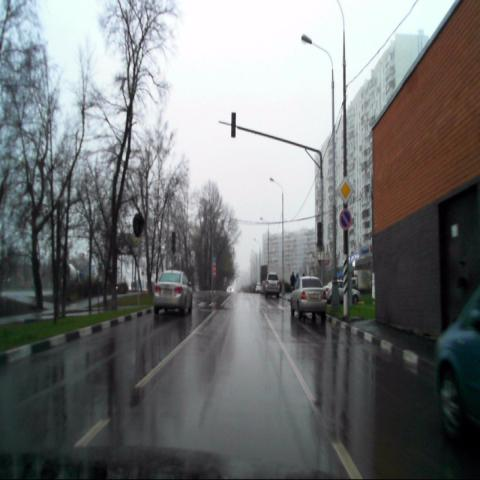3_28: (339, 209, 351, 229)
